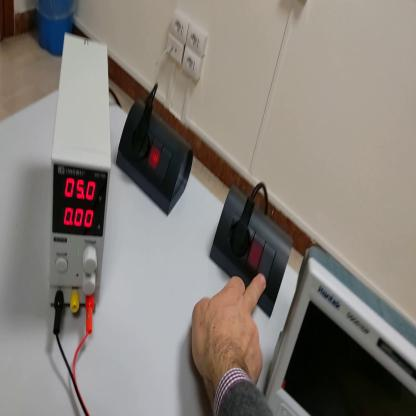hand: (193, 272, 268, 393)
oscilloscope: (263, 244, 415, 415)
power supply: (44, 25, 113, 313)
socket: (209, 188, 293, 321), (117, 95, 194, 216)
